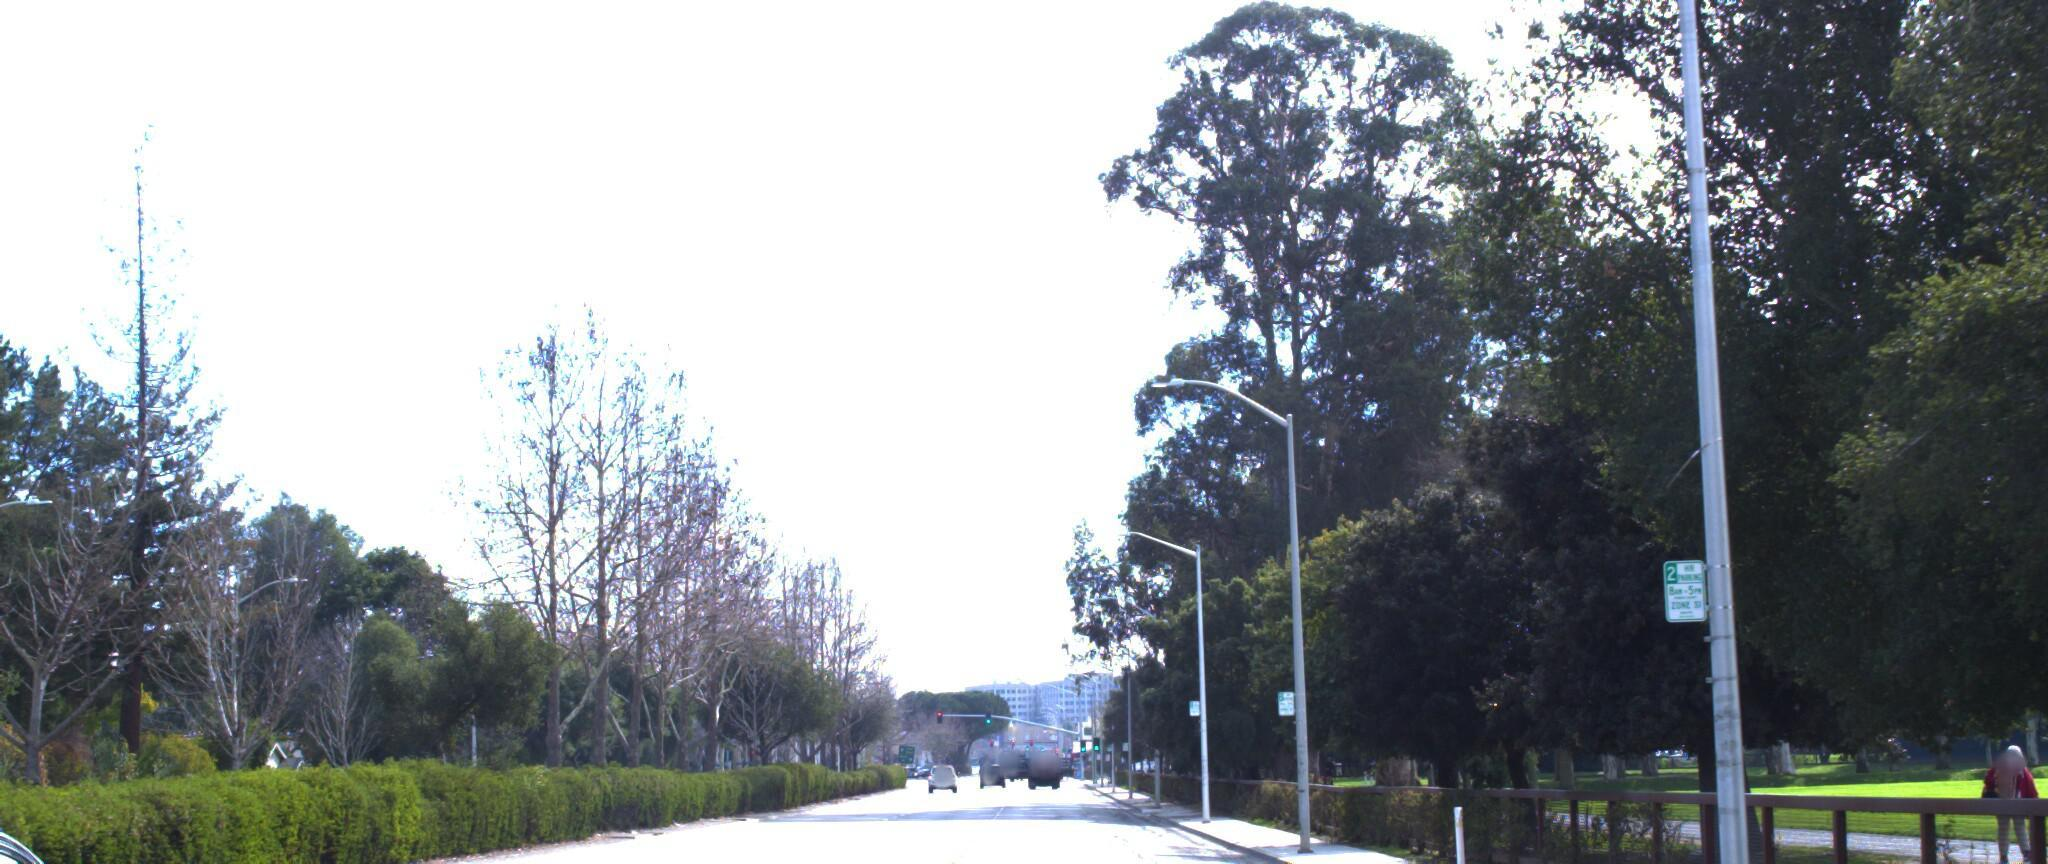car: (0, 777, 252, 864)
